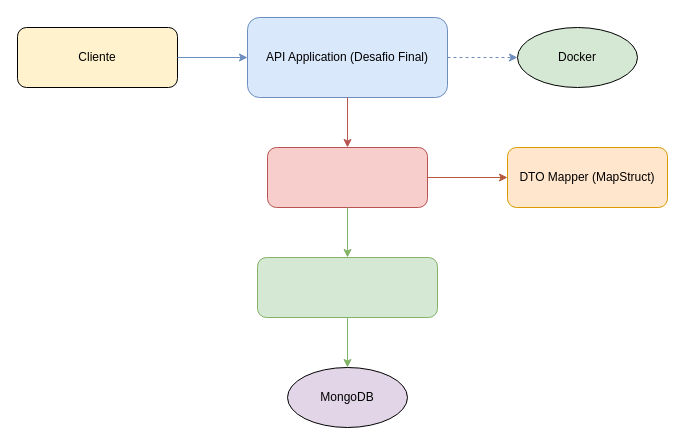
Image size: 685x445. Some labels were removed from this diagram. Here are the shapes that lost their labels. From the top down, the centre of each, then its label:
the point at 347,177: Service Layer (Kotlin)
the point at 347,287: Repository Layer (Spring Data MongoDB)
